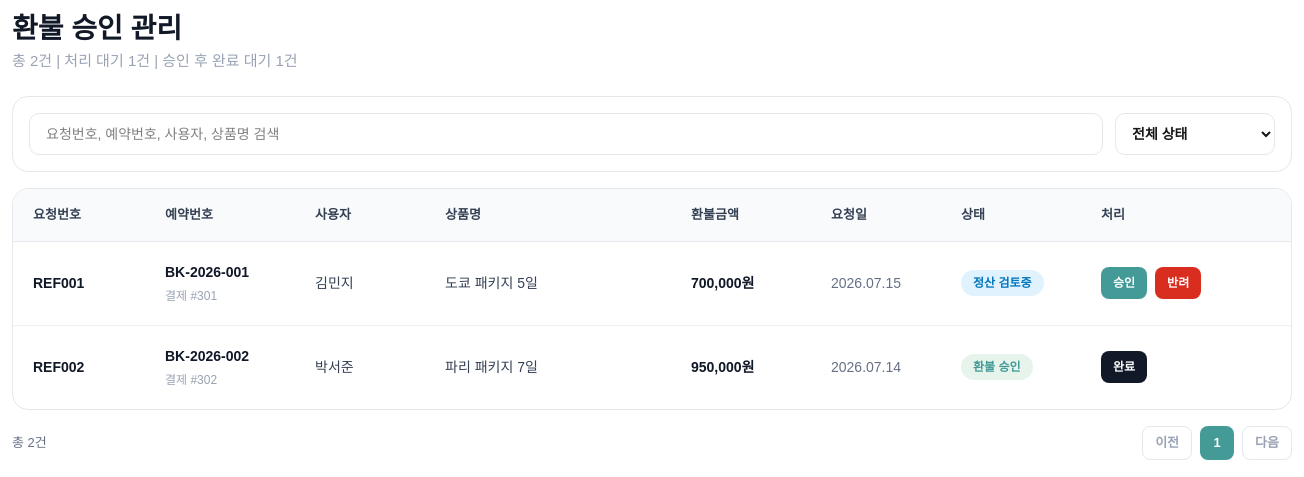
Test: MoneyRefundManageClient 컴포넌트 테스트 › 상태 필터로 환불 요청 목록을 필터링한다
The image size is (1304, 477).
Select "환불 승인" in the dropdown named "환불 상태" at (1195, 134), box [1115, 113, 1275, 155]
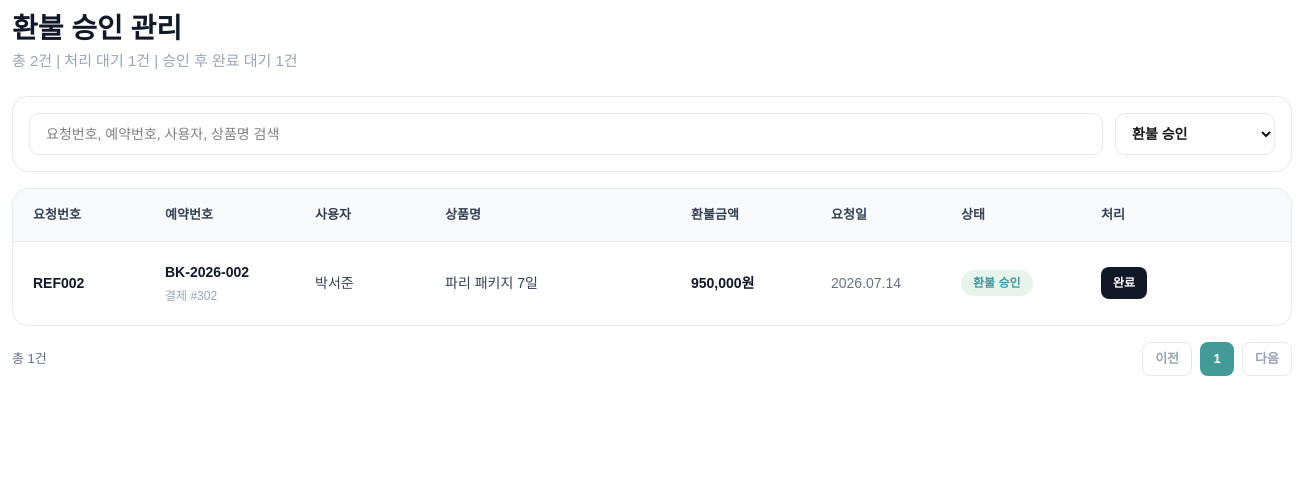
Expected: the text "파리 패키지 7일" is shown, [425, 241, 671, 325]
Expected: the text "도쿄 패키지 5일" is gone
